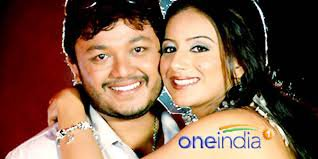noMask: (59, 2, 160, 111), (163, 4, 255, 109)
